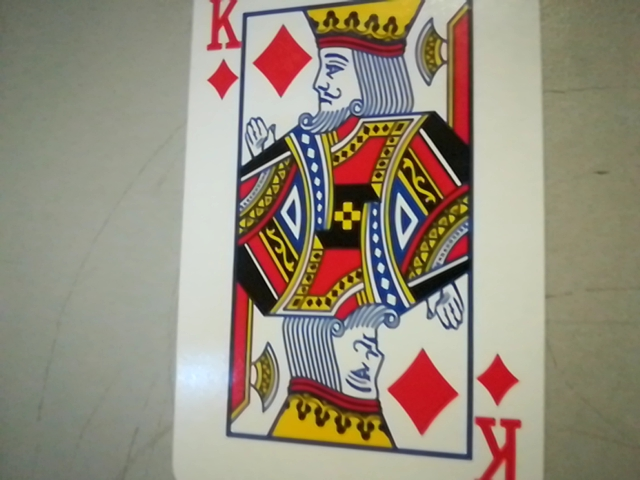fk k: (463, 355, 534, 480), (193, 0, 249, 101)
